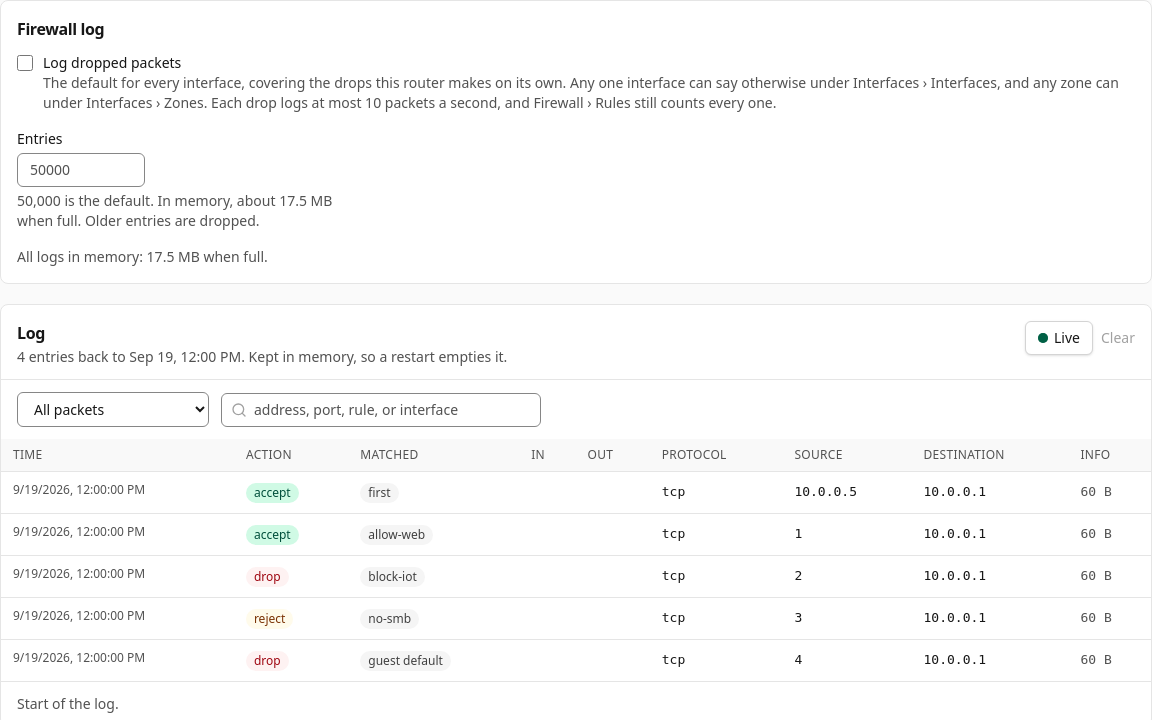
Scenario: LogPage › holds new packets while Live is off
What coordinates should you click on to do the following:
click the button "Live"
I would click on:
 (1059, 338)
Its box is [1025, 321, 1093, 355].
Wait 250 ms
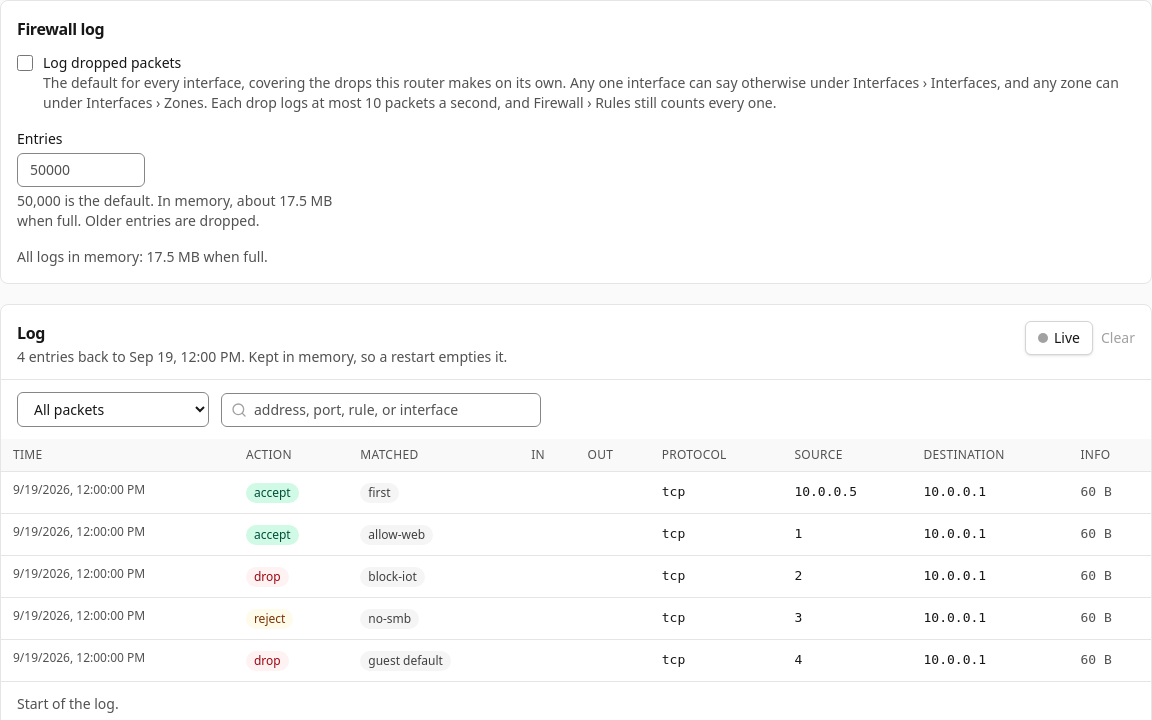
Check: the text "held" is not shown
What coordinates should you click on to do the following:
click the button "Live"
I would click on:
 (1059, 338)
Its box is [1025, 321, 1093, 355].
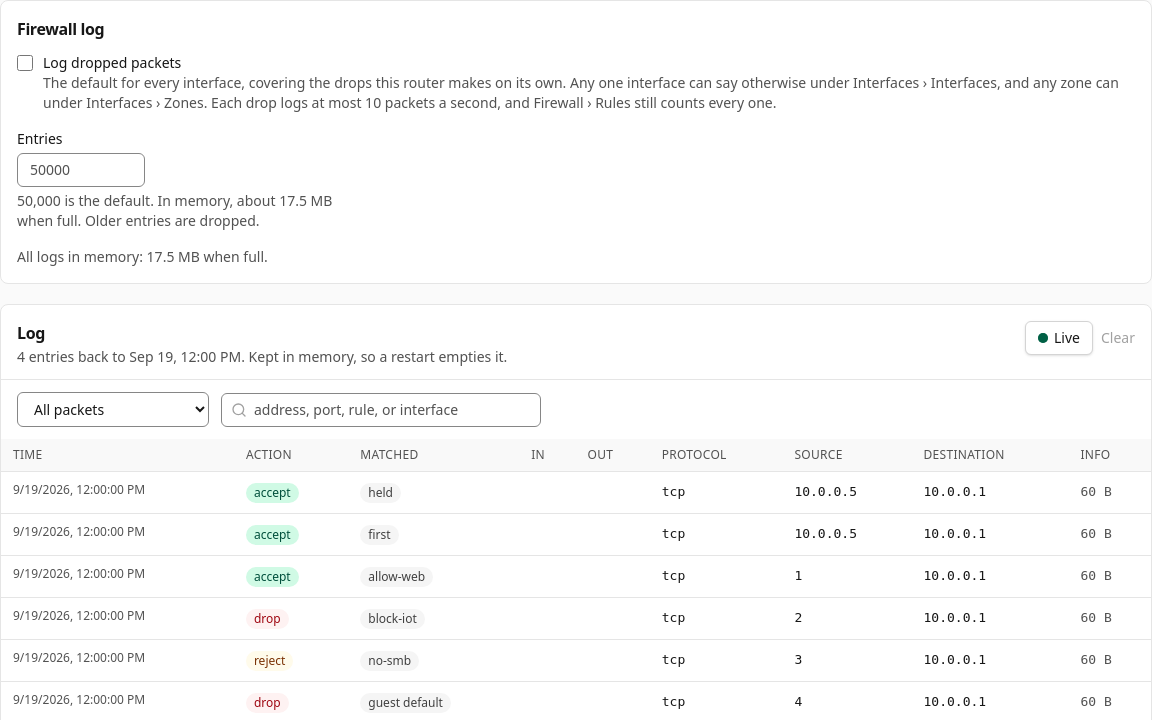
Check: the text "held" is shown, box [360, 483, 401, 503]
